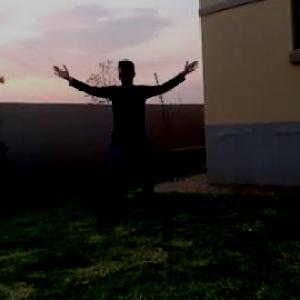takeoff: (30, 34, 186, 216)
